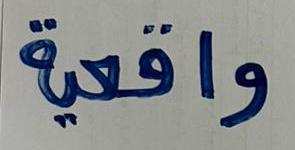ain: (80, 43, 129, 123)
alef: (194, 16, 220, 108)
qaf: (131, 15, 183, 120)
teh_marbota: (11, 13, 55, 85)
waw: (222, 42, 274, 141)
yeh: (57, 67, 79, 134)
